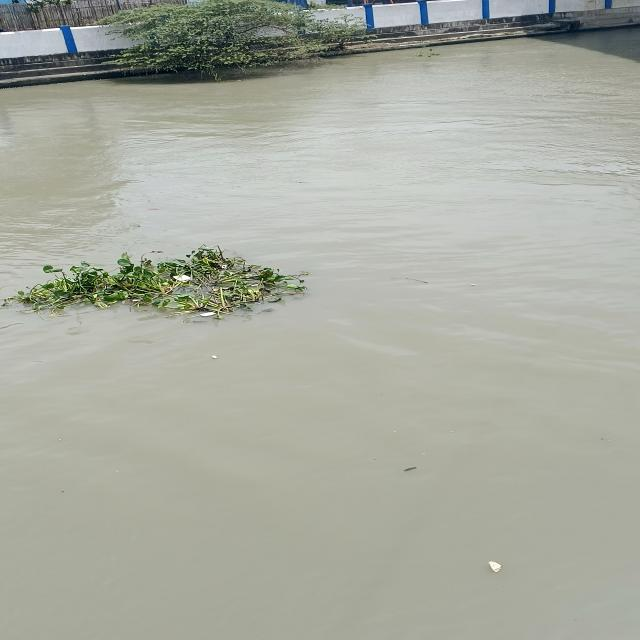Organic Debris: (0, 228, 404, 349), (384, 456, 428, 476)
Plastic: (184, 304, 222, 322), (161, 270, 203, 286), (489, 558, 514, 582)
